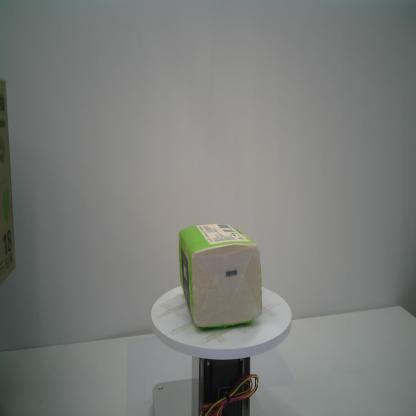Tissue: (176, 217, 265, 330)
